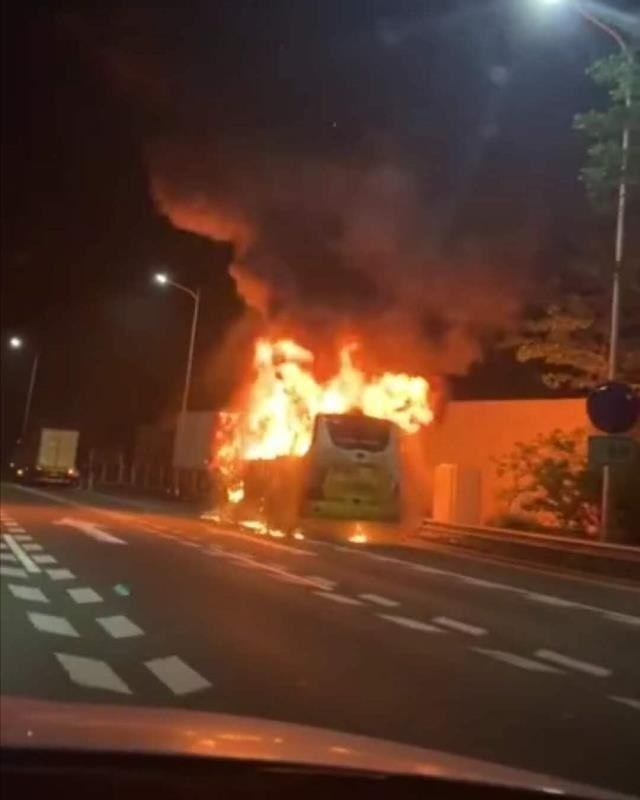fire: (215, 332, 439, 485)
